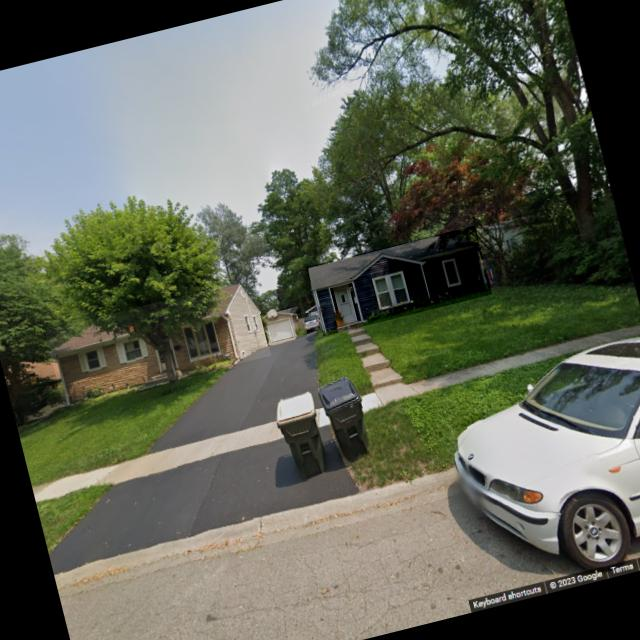House: (44, 278, 271, 407), (306, 225, 492, 336), (260, 304, 307, 346)
